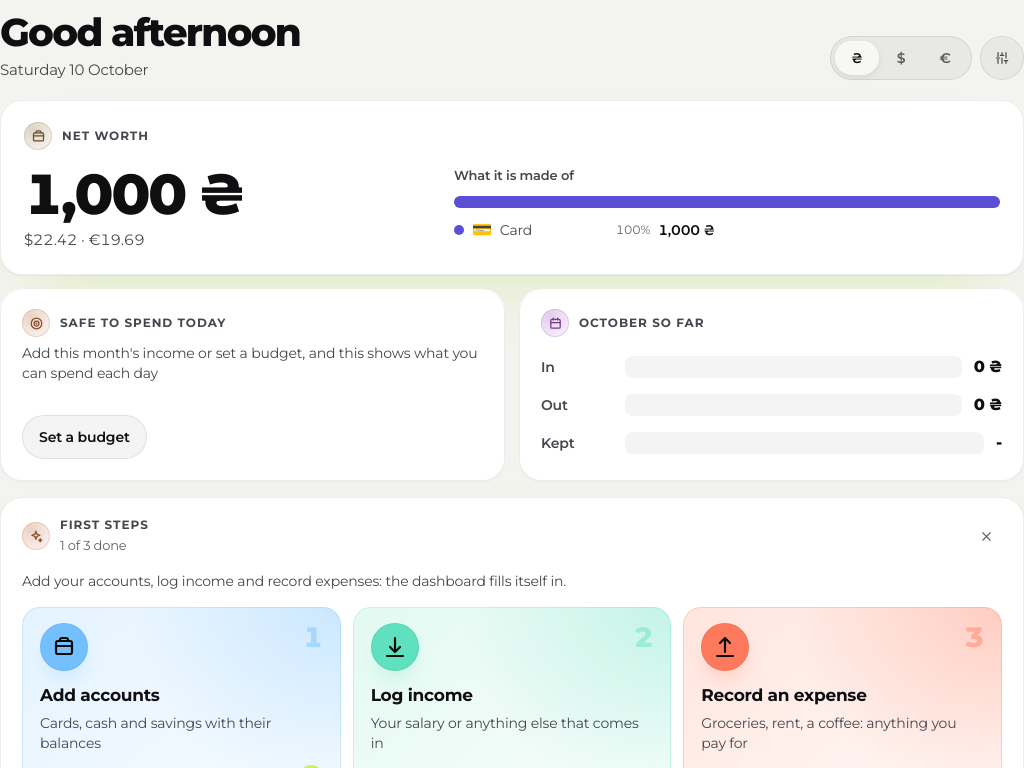
Test: DashboardPage › hides a card from the layout settings and keeps the layout
What coordinates should you click on to do the following:
click the button named "Arrange the overview"
I would click on:
 (1002, 58)
Its box is top-left (980, 36), bottom-right (1023, 80).
(page scrolled)
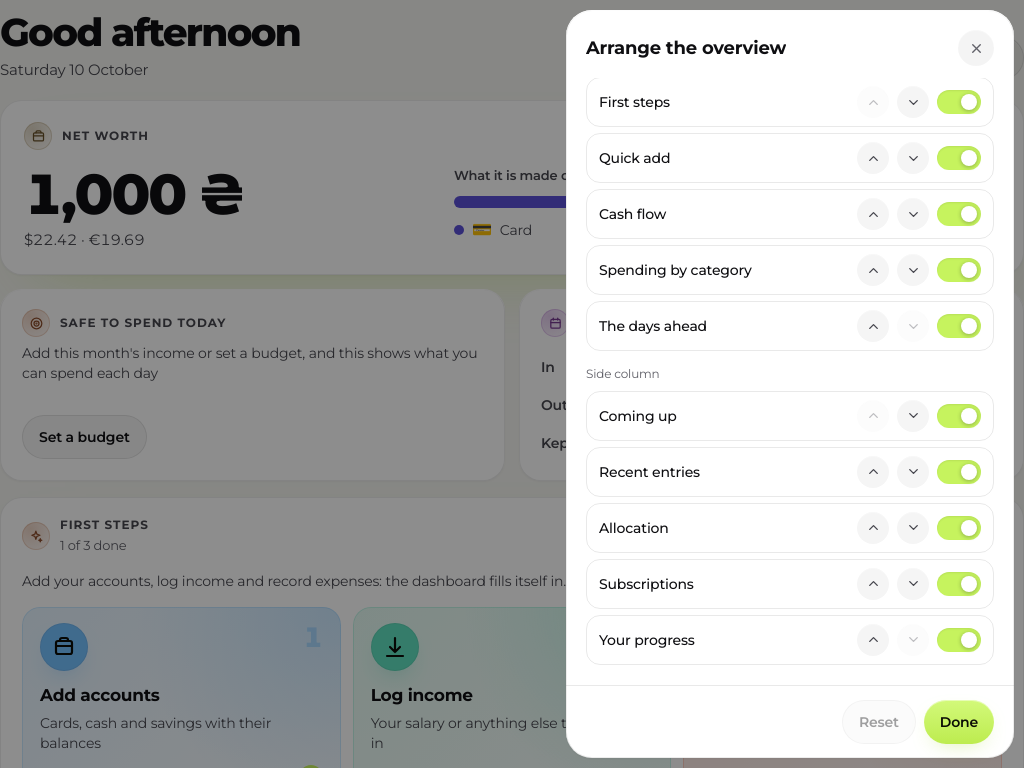
What coordinates should you click on to do the following:
click the switch named "Show Your progress"
I would click on:
 (959, 640)
Its box is top-left (937, 628), bottom-right (981, 652).
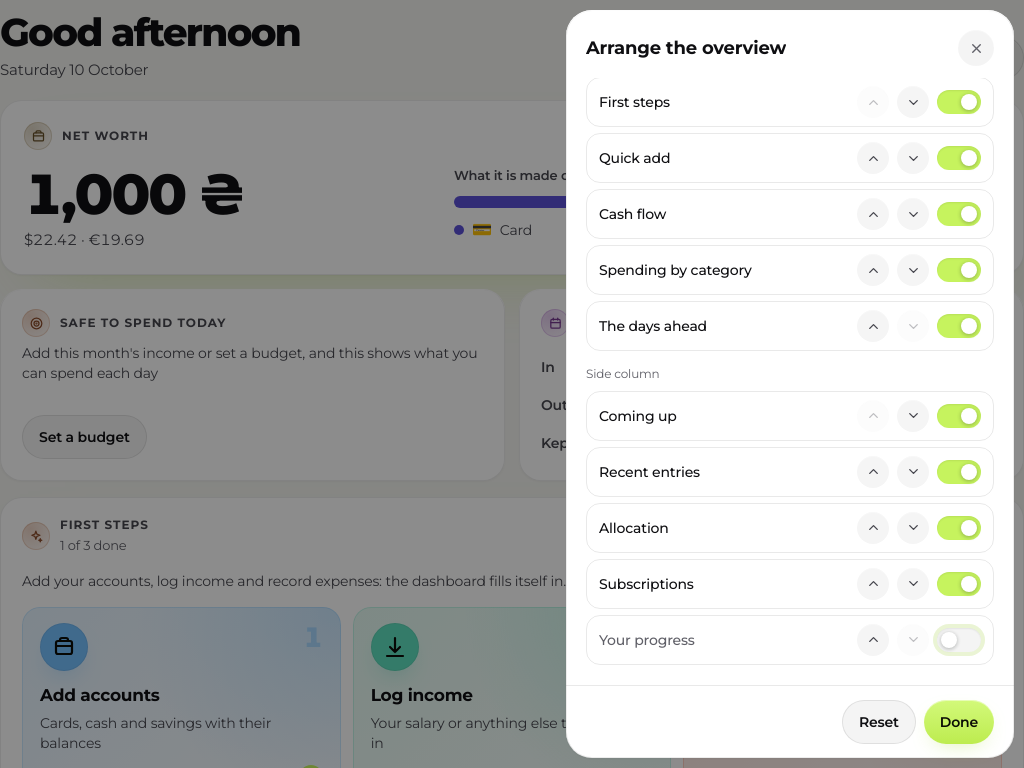
What coordinates should you click on to do the following:
click the button "Done"
I would click on:
 (959, 722)
Its box is top-left (924, 700), bottom-right (994, 744).
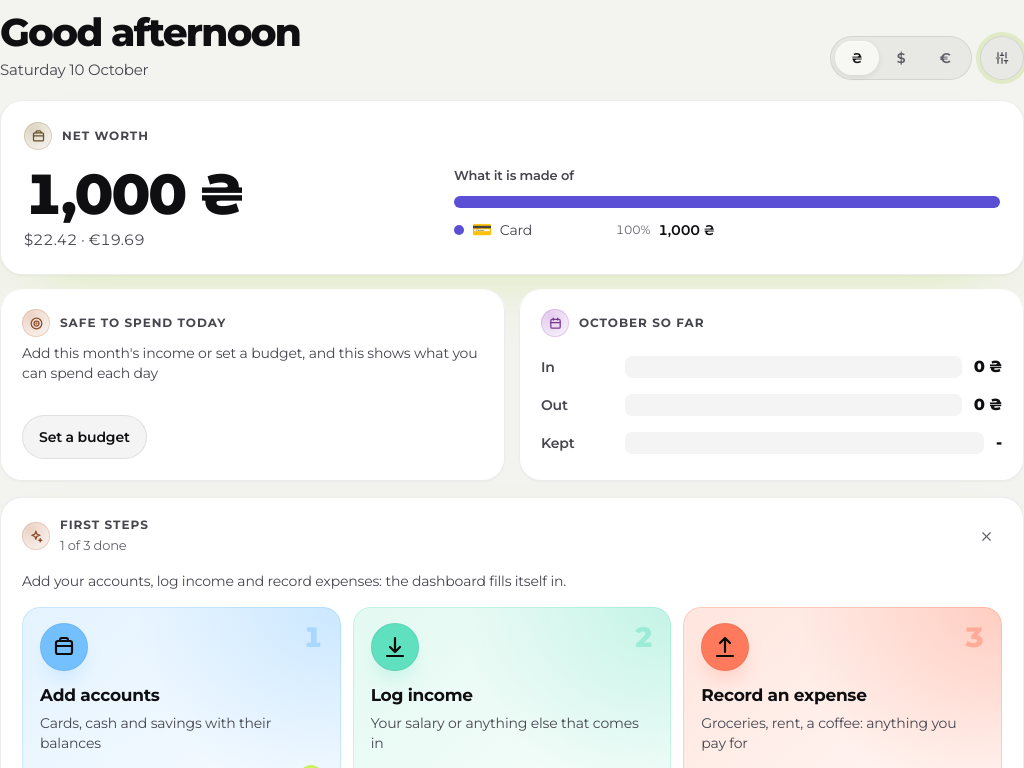
Expected: the text "Your progress" is gone
